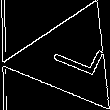L_NW: (37, 34, 101, 83)
